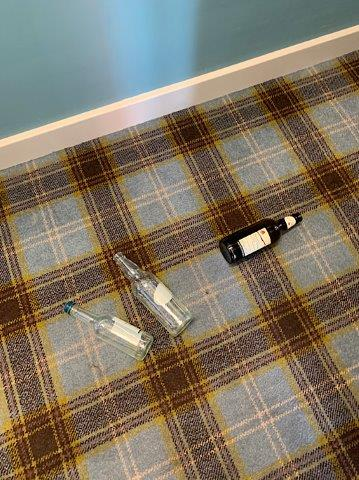botolkaca: (114, 252, 190, 336), (65, 302, 151, 357), (221, 213, 303, 264)
